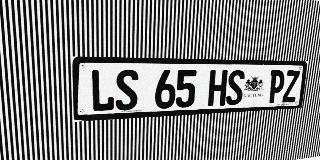5: (175, 70, 197, 108)
6: (155, 70, 177, 109)
H: (208, 70, 228, 106)
L: (90, 69, 115, 112)
P: (267, 70, 286, 103)
S: (115, 69, 138, 111), (225, 70, 245, 105)
Z: (282, 70, 300, 103)
